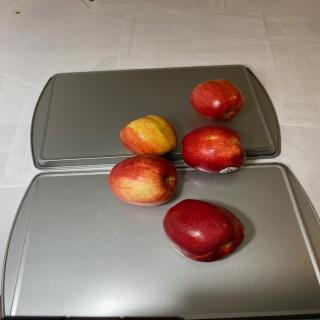Apple: (162, 198, 245, 262), (108, 154, 177, 207), (181, 125, 246, 174), (190, 78, 245, 122), (119, 115, 178, 156)
